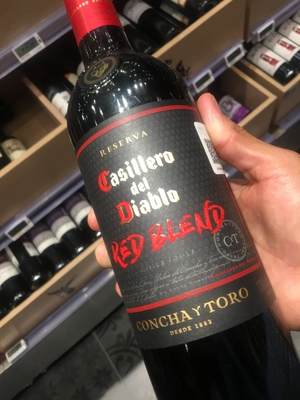casillero del diablo red blend: (57, 2, 277, 377)
